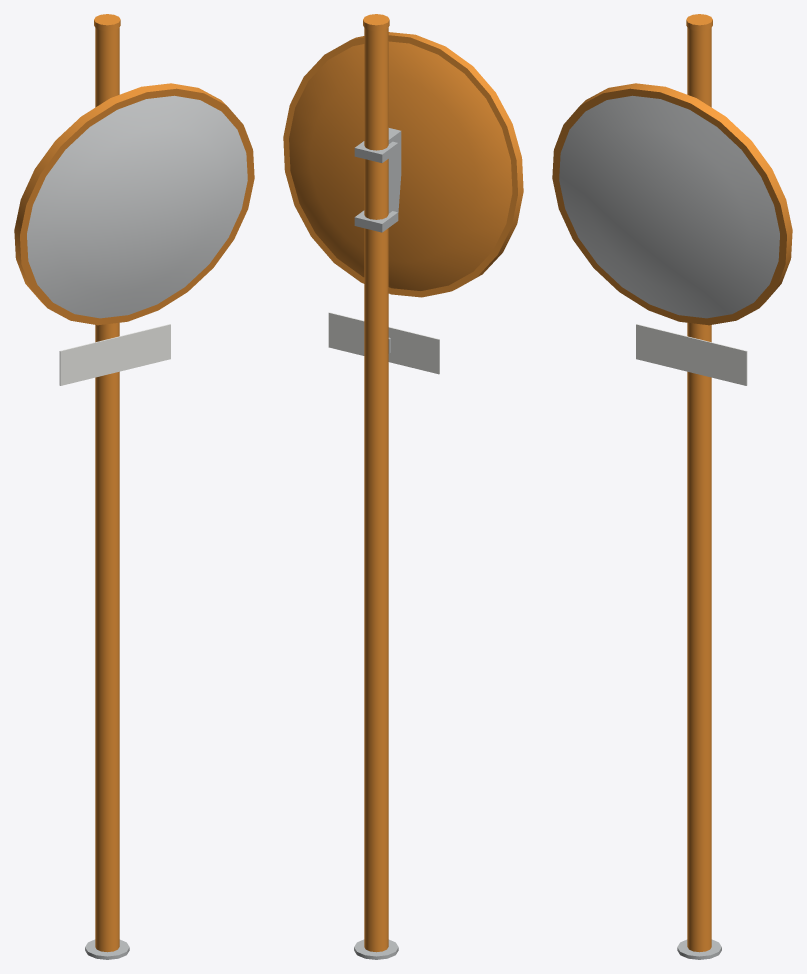
The model's file is curve_mirror.glb.
The picture shows the model from 3 angles, left to right: view 1: azimuth 30°, elevation 25°; view 2: azimuth 150°, elevation 25°; view 3: azimuth 330°, elevation 25°; orthographic projection.
Visible parts, largest first — view 1: curve_mirror; view 2: curve_mirror; view 3: curve_mirror.
Part boxes in pixels (bbox=[...]): curve_mirror: bbox=[14, 14, 254, 959]; curve_mirror: bbox=[283, 14, 523, 959]; curve_mirror: bbox=[552, 14, 792, 959].
Size of the model in its own units: 0.85 by 3.22 by 0.3192.
